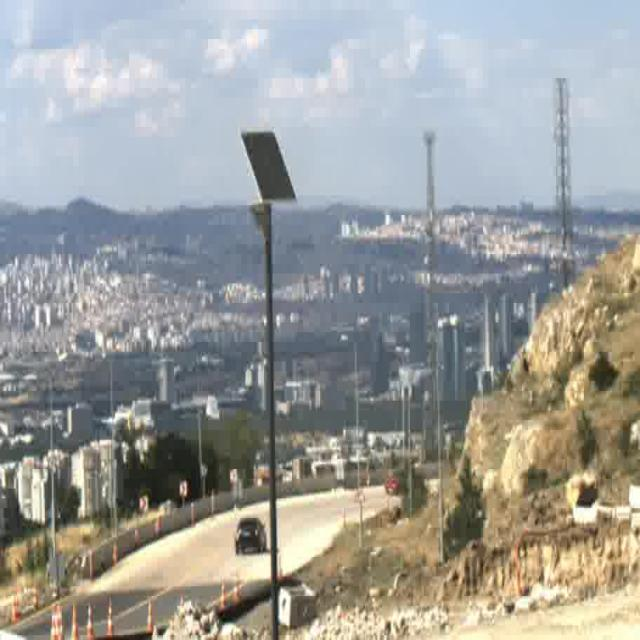Car: (235, 521, 268, 555), (386, 468, 405, 494)
